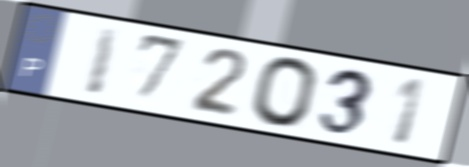1: (389, 74, 428, 148)
2: (189, 46, 249, 118)
3: (314, 65, 384, 141)
7: (133, 30, 192, 108)
I: (82, 24, 124, 99)
O: (249, 54, 322, 131)
